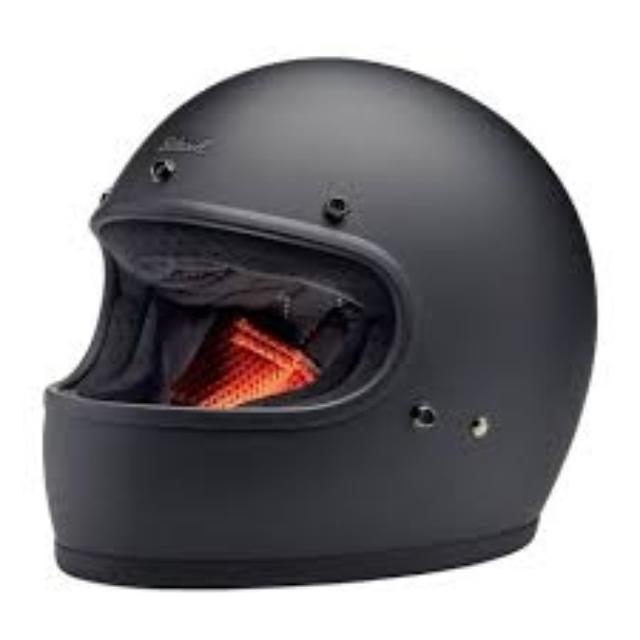motorcycle-helmets: (46, 60, 594, 586)
